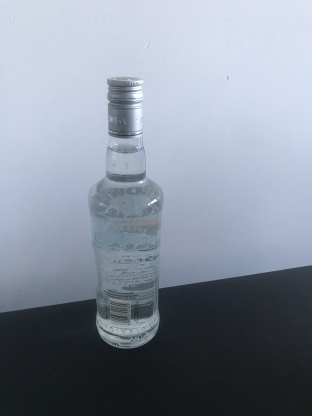nakretka: (105, 74, 145, 139)
